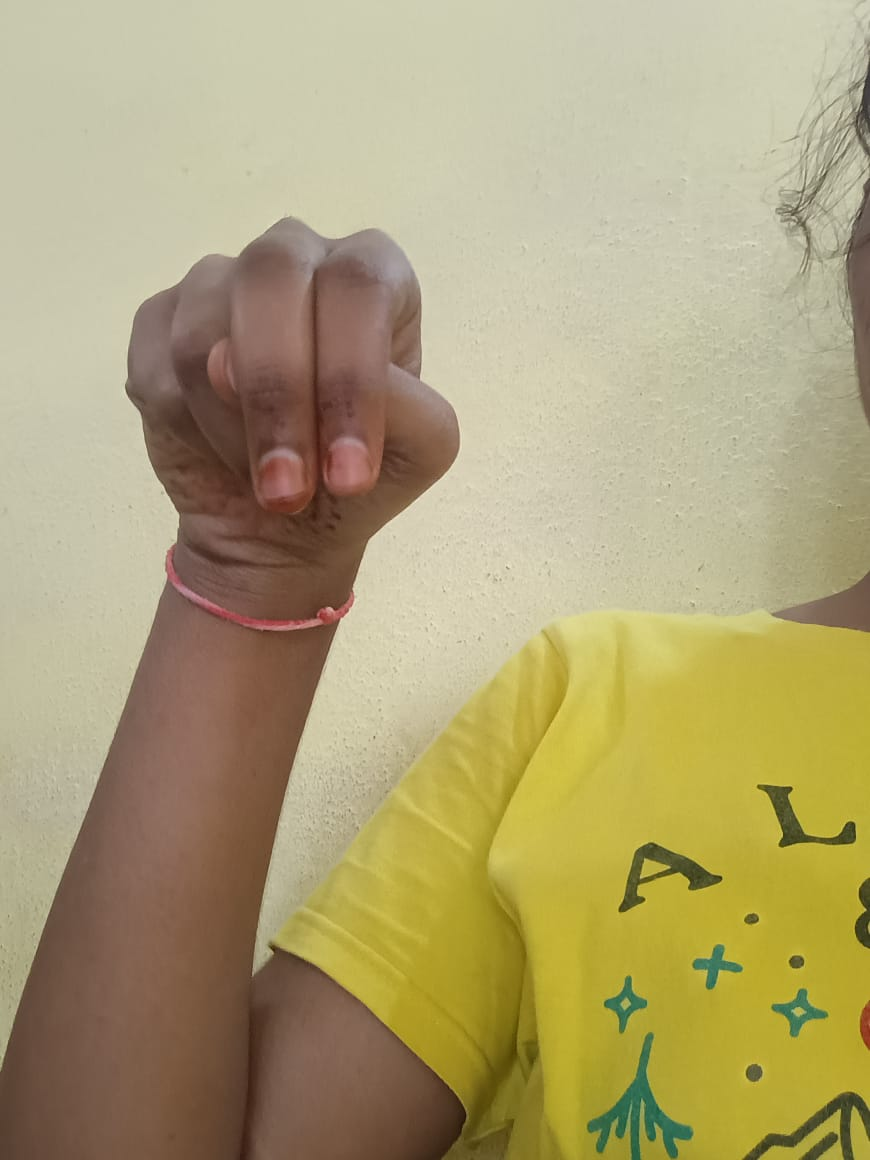N: (128, 217, 458, 570)
